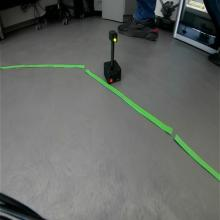green: (109, 29, 118, 43)
